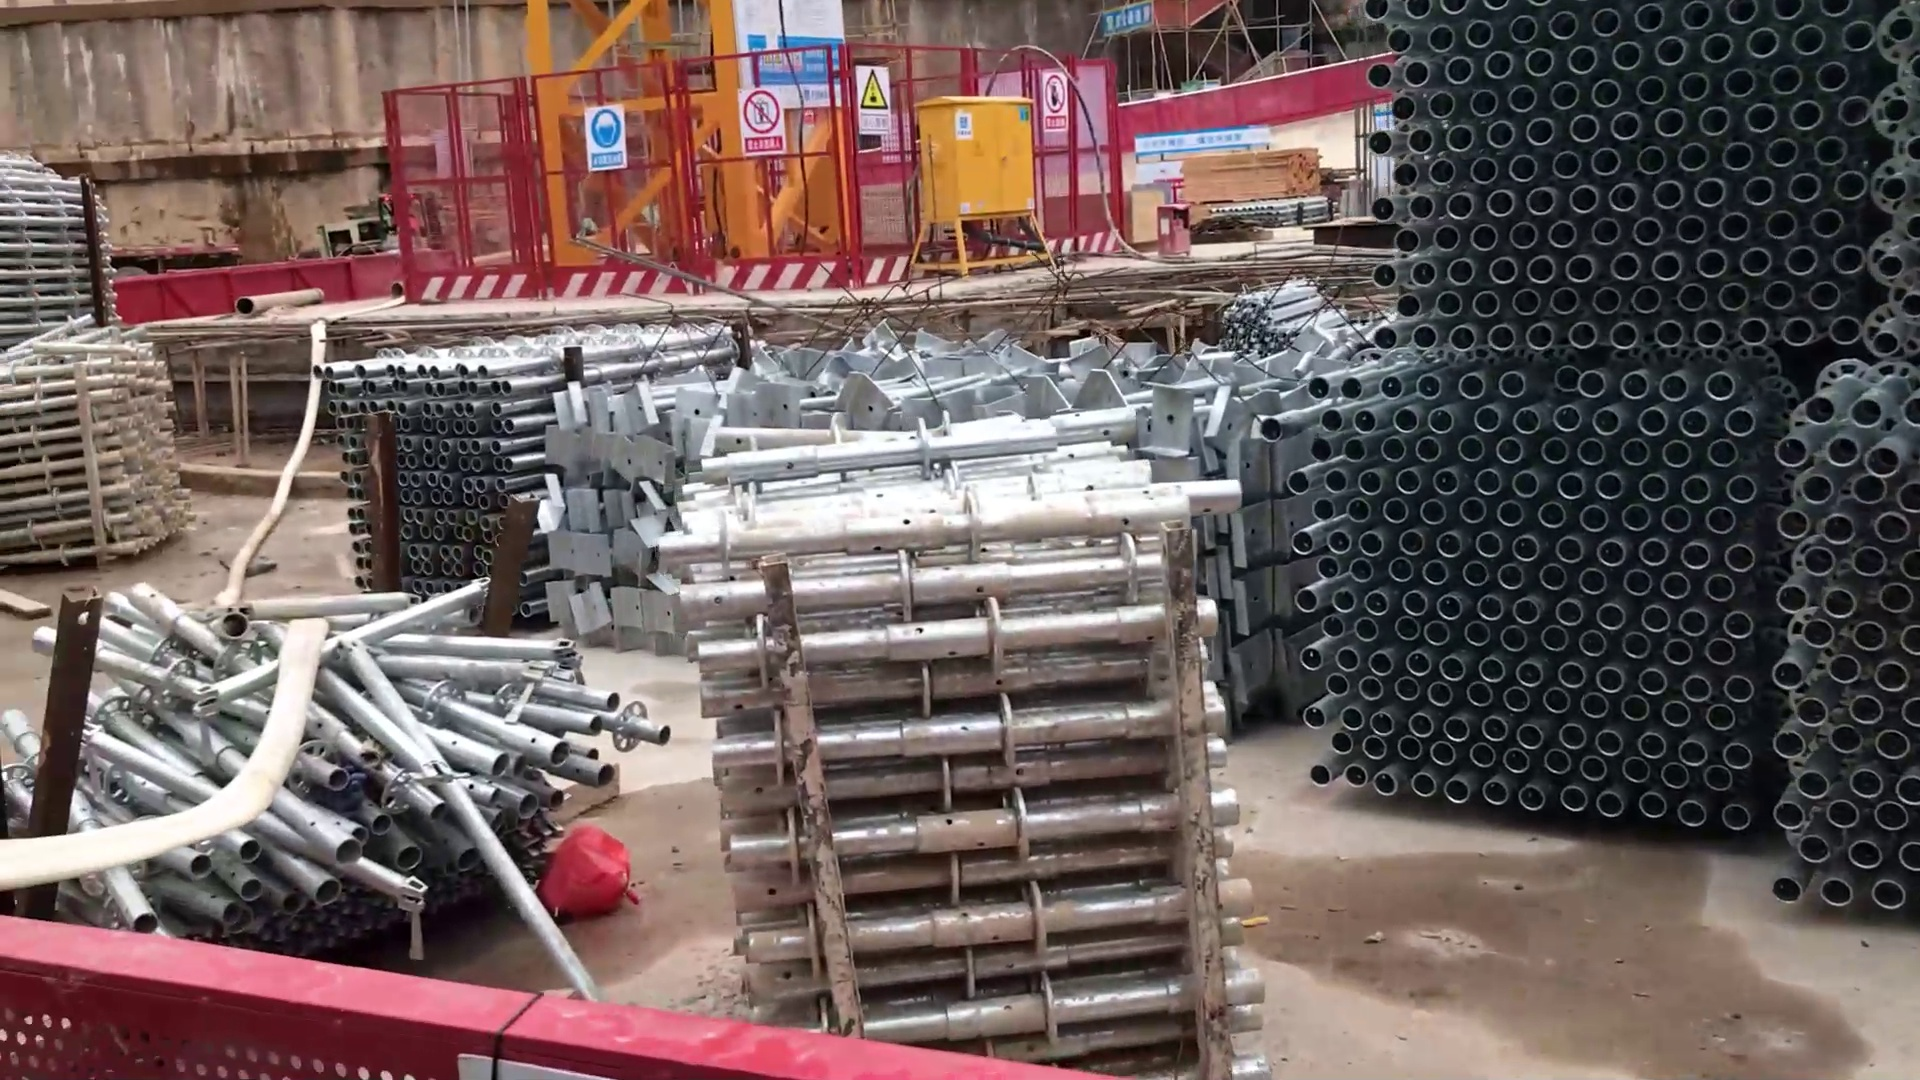ebox: (913, 84, 1060, 274)
fence: (373, 42, 866, 291), (24, 914, 647, 1080)
scaffold: (1309, 1, 1917, 911), (686, 462, 1294, 1080), (41, 603, 618, 942), (316, 328, 691, 641), (1, 331, 215, 575), (1, 152, 133, 334)
slogan: (728, 82, 806, 165), (578, 98, 633, 181), (849, 55, 899, 141), (1033, 67, 1081, 141), (1095, 3, 1162, 40)
wood: (1178, 146, 1329, 224)
